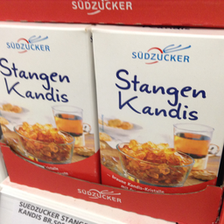sugar: (92, 24, 224, 196), (1, 21, 100, 183)
